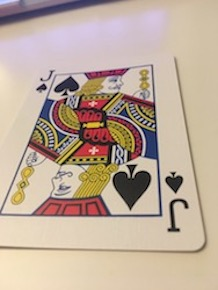JackOfSpades: (1, 53, 209, 254)
